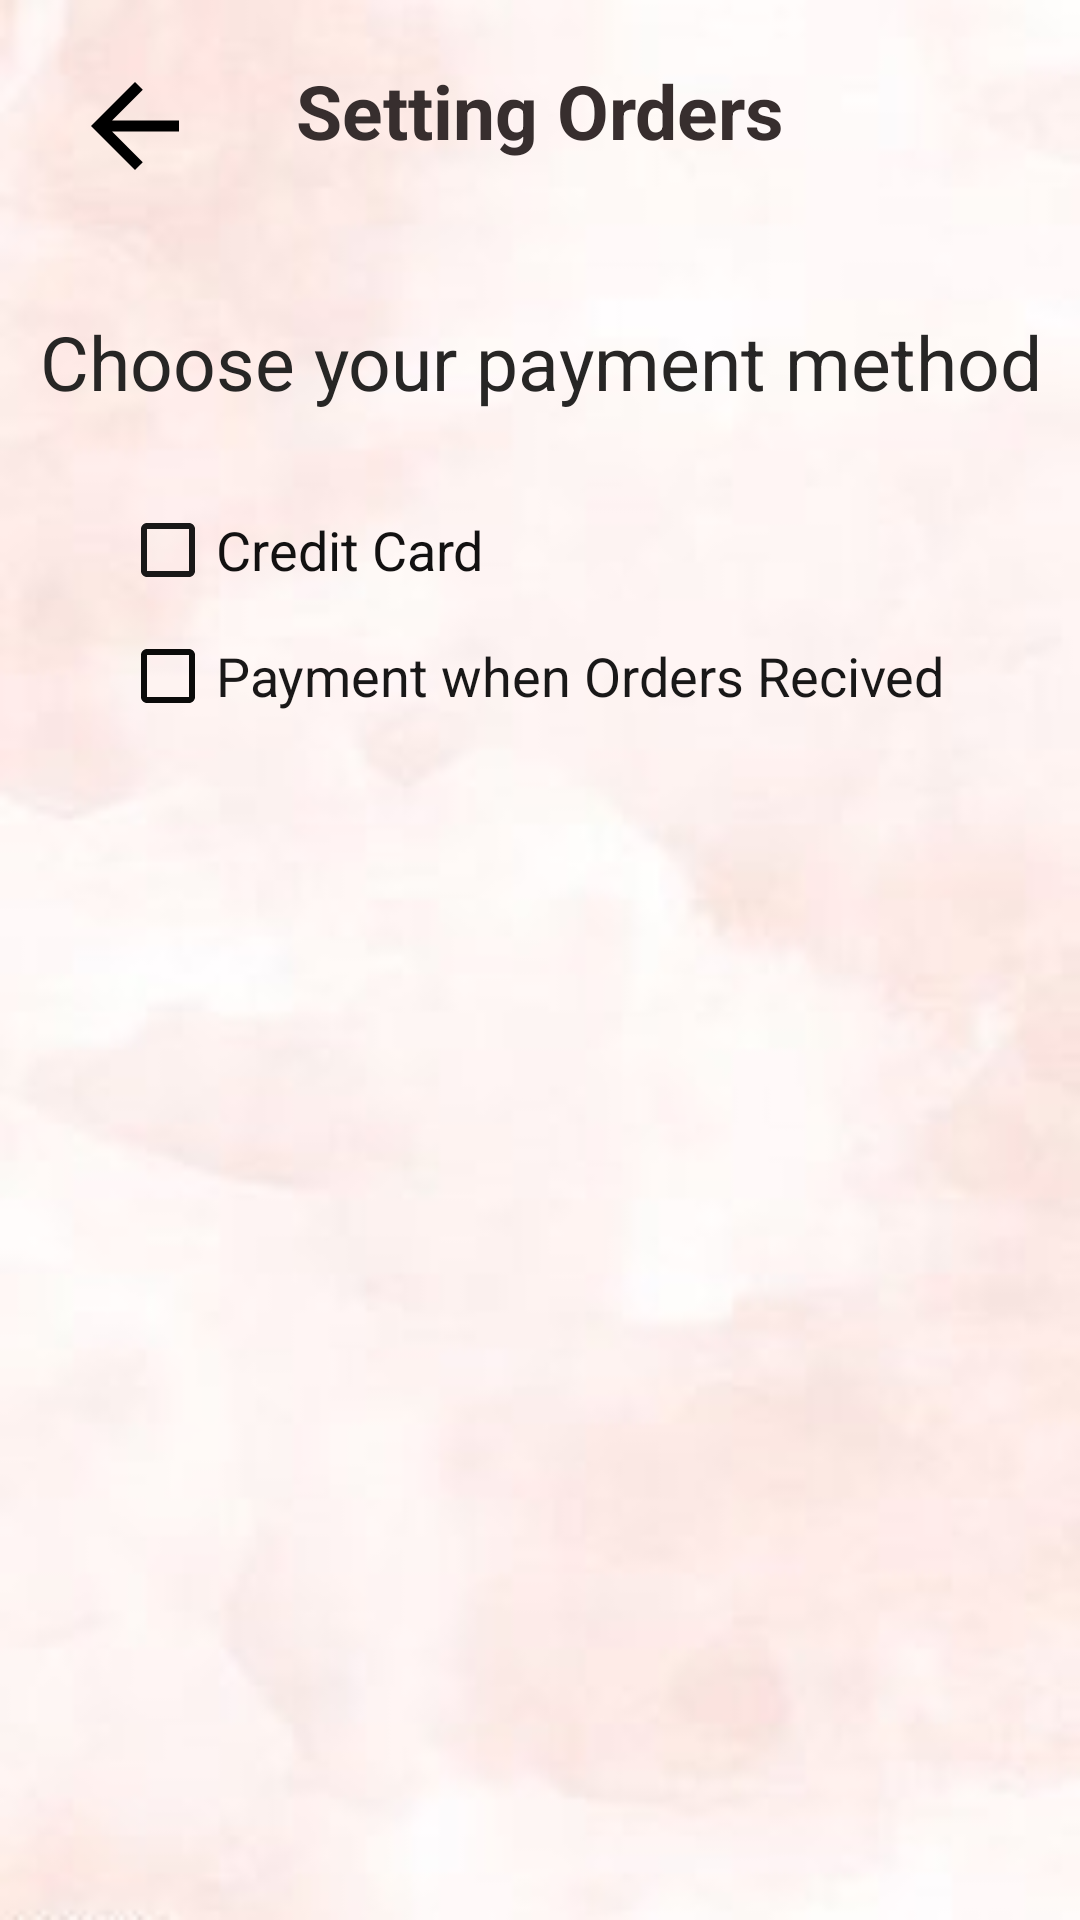

Point at icon controls on the screen. Image size 1080w x 1920h, points as (x,y).
back: (135,126)
